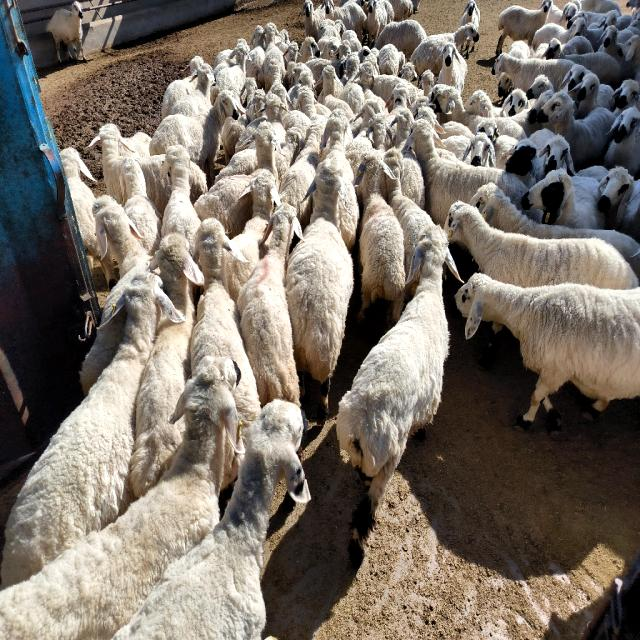sheep: (0, 357, 242, 638), (1, 272, 181, 587), (115, 400, 310, 638), (336, 227, 459, 566), (455, 273, 640, 425), (130, 233, 204, 498), (285, 160, 354, 412), (445, 202, 638, 289), (470, 183, 640, 278), (191, 218, 261, 434), (80, 195, 151, 394), (406, 118, 528, 226), (238, 203, 302, 405), (194, 122, 278, 238), (355, 150, 405, 322), (149, 90, 240, 184), (224, 172, 281, 302), (380, 148, 434, 274), (538, 92, 615, 171), (321, 110, 359, 249), (280, 117, 326, 228), (521, 168, 604, 228), (60, 150, 99, 258), (161, 145, 201, 248), (120, 157, 161, 255), (410, 23, 479, 75), (392, 108, 425, 208), (89, 123, 129, 204), (491, 53, 574, 92), (496, 0, 552, 56), (598, 168, 640, 242), (505, 130, 554, 188), (161, 55, 204, 118), (604, 107, 640, 178), (429, 83, 481, 132), (46, 2, 86, 62), (211, 42, 249, 105), (171, 63, 215, 116), (569, 72, 614, 118), (375, 20, 426, 60), (322, 65, 354, 119), (325, 0, 366, 42), (262, 23, 285, 91), (539, 135, 575, 177), (438, 42, 468, 92), (599, 25, 634, 64), (366, 0, 394, 46), (462, 132, 496, 168), (246, 25, 265, 88), (544, 35, 594, 58), (611, 78, 640, 116), (302, 0, 325, 39), (378, 43, 405, 76), (464, 90, 494, 116), (560, 65, 590, 90), (460, 0, 480, 29), (406, 273, 419, 297), (460, 40, 474, 58)
